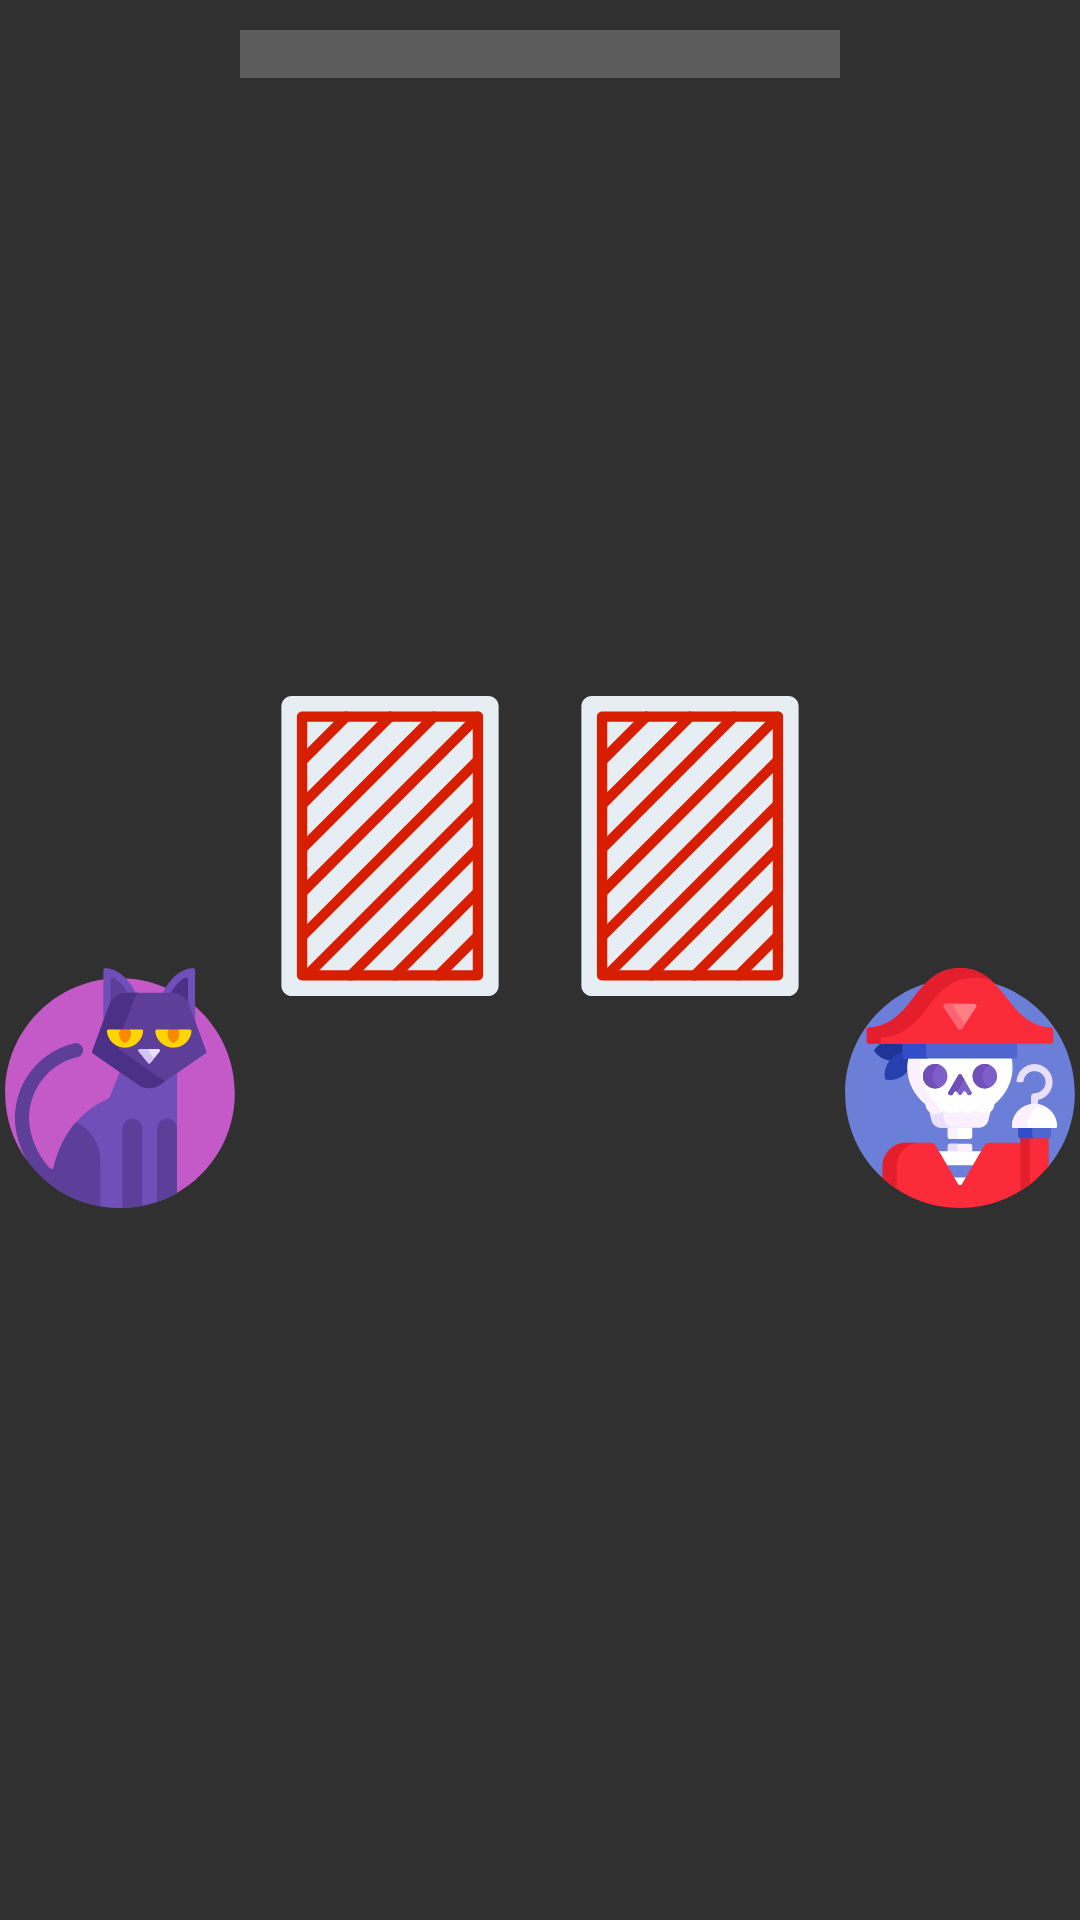

Point at icon controls on the screen. Image size 1080px x 1920px, points as (x=x, y=y).
cat: (x=120, y=1088)
pirate: (x=960, y=1088)
Player One Card Image: (x=390, y=846)
Player Two Card Image: (x=690, y=846)
